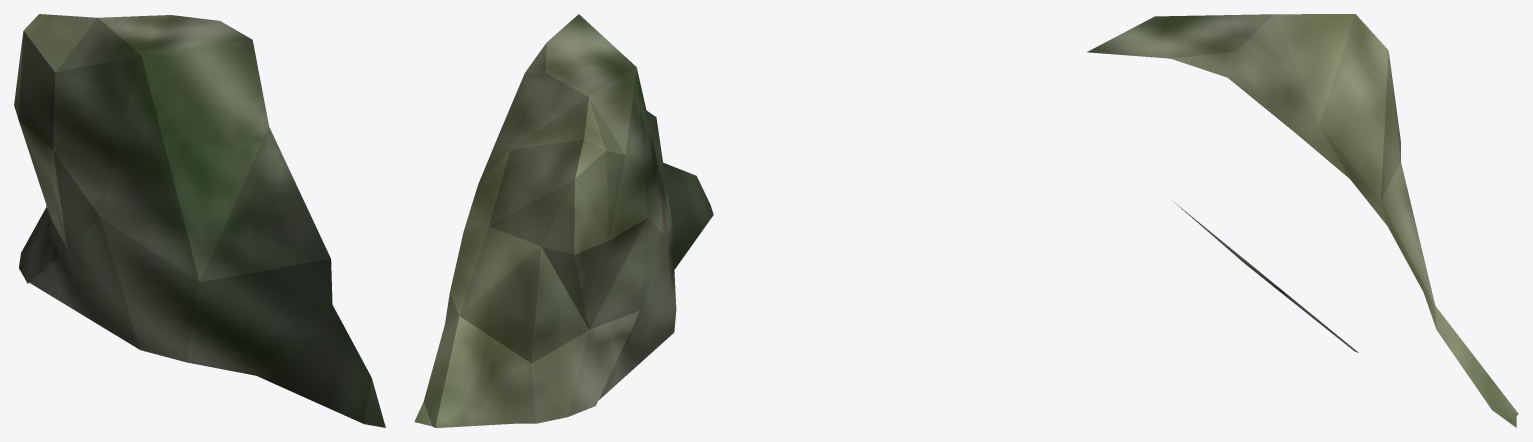
The picture shows the model from 3 angles, left to right: view 1: azimuth 30°, elevation 25°; view 2: azimuth 150°, elevation 25°; view 3: azimuth 270°, elevation 25°; orthographic projection. The views are drawn at different scales.
Size of the model in its own units: 0.3335 by 0.6879 by 1.29.
1 material, 1 textured.
